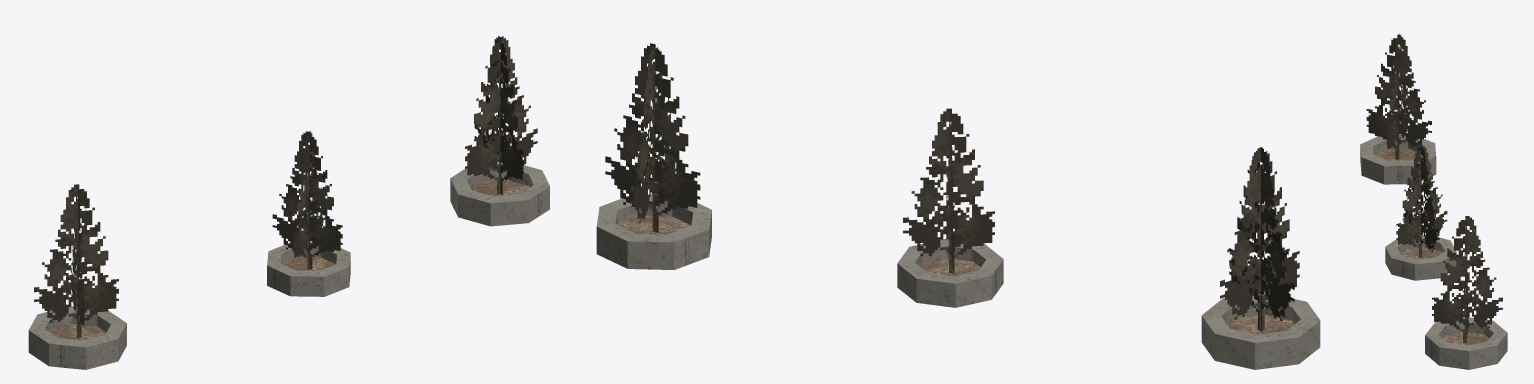
Rendered from procgen-procpain-tree-park-pine-large-xm2z2.obj.
The picture shows the model from 3 angles, left to right: view 1: azimuth 30°, elevation 25°; view 2: azimuth 150°, elevation 25°; view 3: azimuth 270°, elevation 25°; orthographic projection. The views are drawn at different scales.
Bounding box in the file's own units: 36.5 × 10.23 × 11.58.
